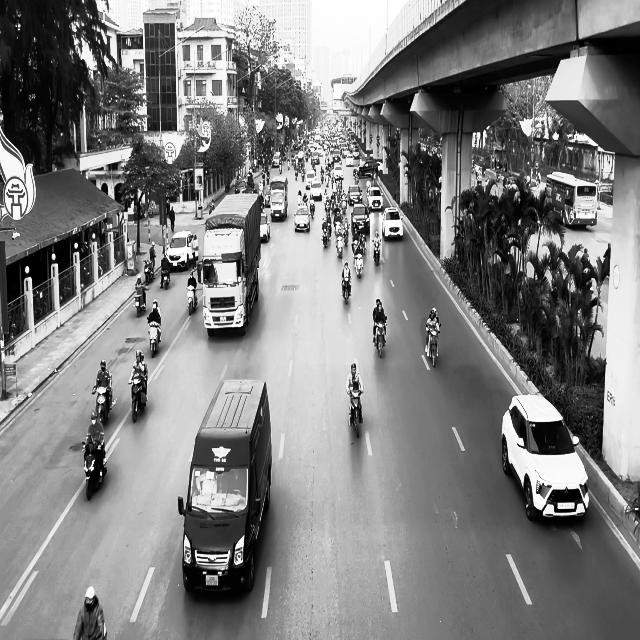bus: (545, 171, 599, 228)
car: (501, 393, 589, 521), (166, 231, 198, 270), (381, 207, 403, 239), (350, 204, 370, 234), (294, 206, 310, 232)
motorbike: (81, 437, 107, 501), (128, 373, 148, 422), (348, 390, 363, 438), (425, 323, 441, 367), (92, 384, 109, 422), (373, 318, 387, 358), (147, 317, 161, 357), (134, 283, 149, 317), (186, 285, 198, 315), (342, 274, 352, 304), (144, 259, 154, 283), (373, 238, 381, 265), (160, 268, 170, 289)
truck: (178, 377, 272, 594), (202, 192, 261, 337)
